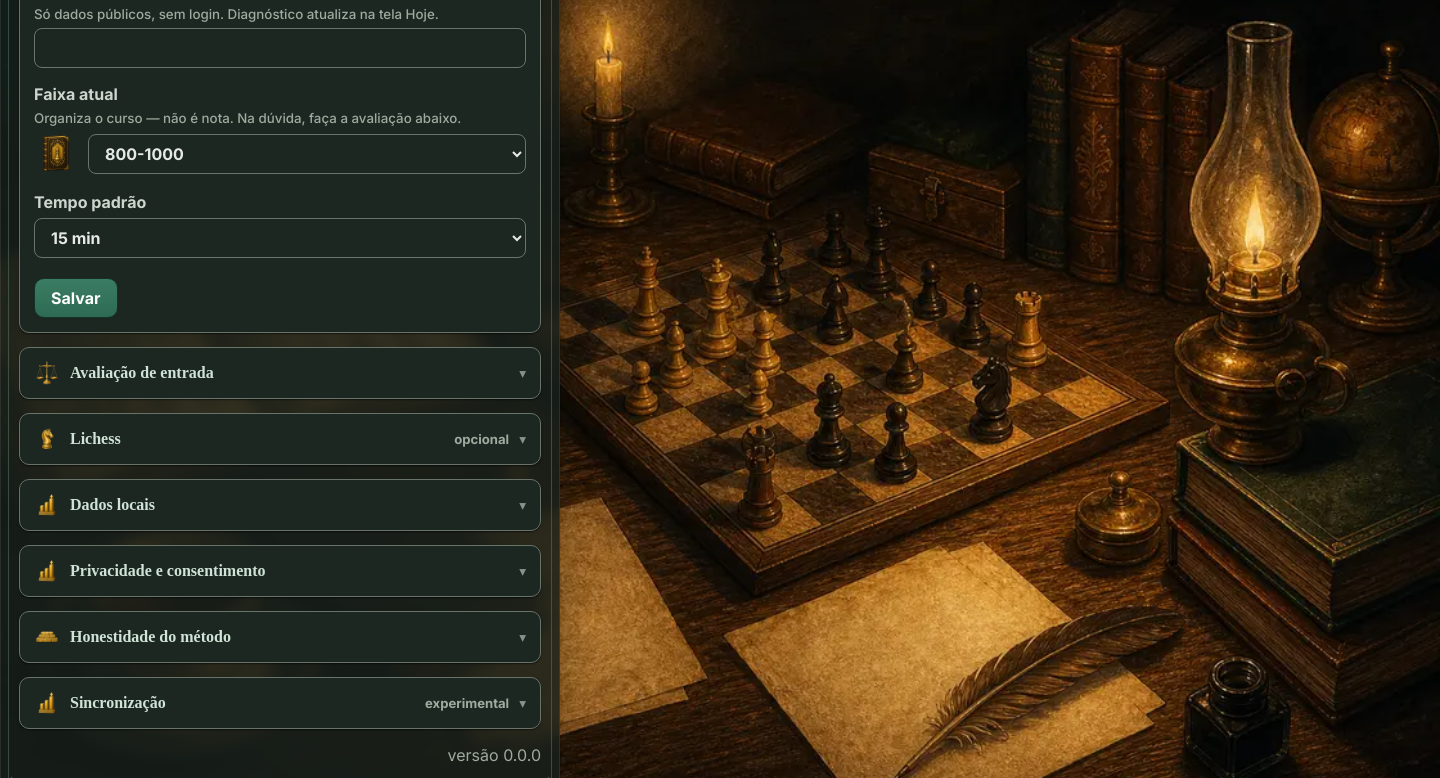
Config — fold de privacidade e consentimento › mostra aviso de consentimento ausente para usuário pré-existente (sem consentedAt)
(page scrolled)
Step 1. Click the heading "Privacidade e consentimento" → (150, 571), box [34,558,266,584]
(page scrolled)
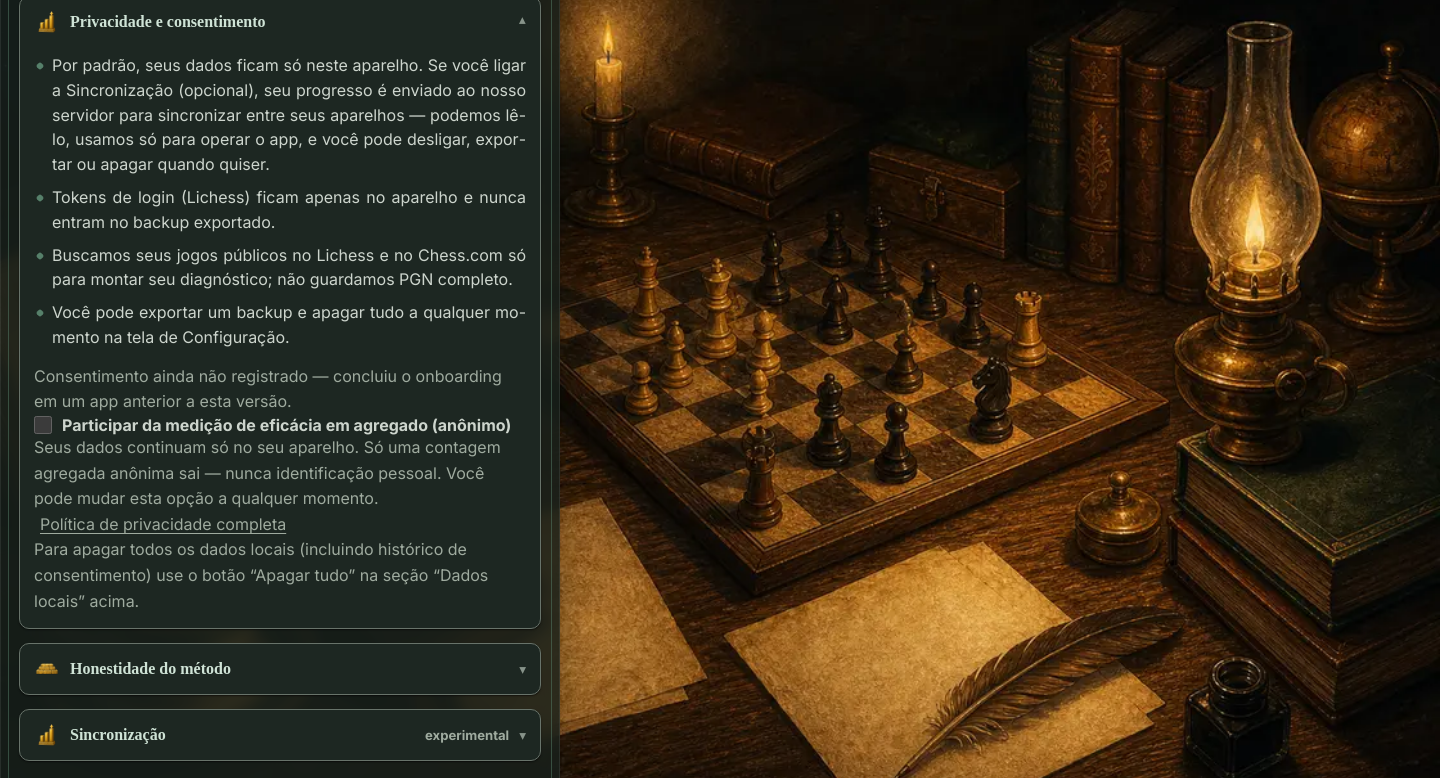
Check: the text "Consentimento ainda não registrado" is shown, box [34,366,502,411]
